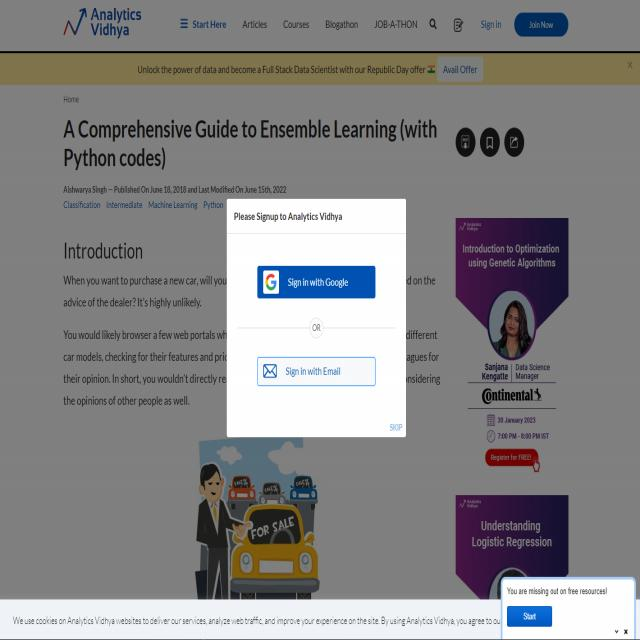sneaking: (223, 194, 415, 446), (497, 572, 632, 640)
